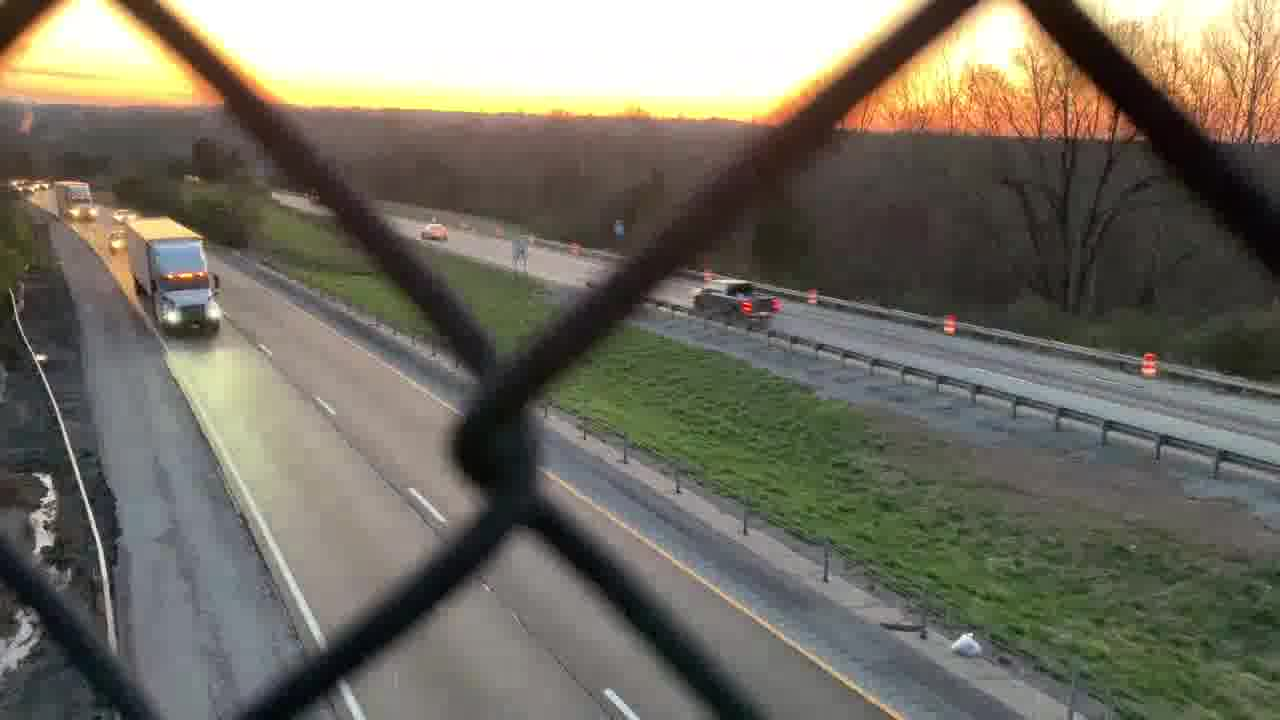heavyTruck: (121, 216, 227, 343), (55, 179, 93, 220)
lightTruck: (690, 270, 788, 323)
smallCar: (420, 220, 445, 238)
vehicle: (101, 223, 134, 255), (15, 184, 47, 198), (113, 209, 133, 223)
